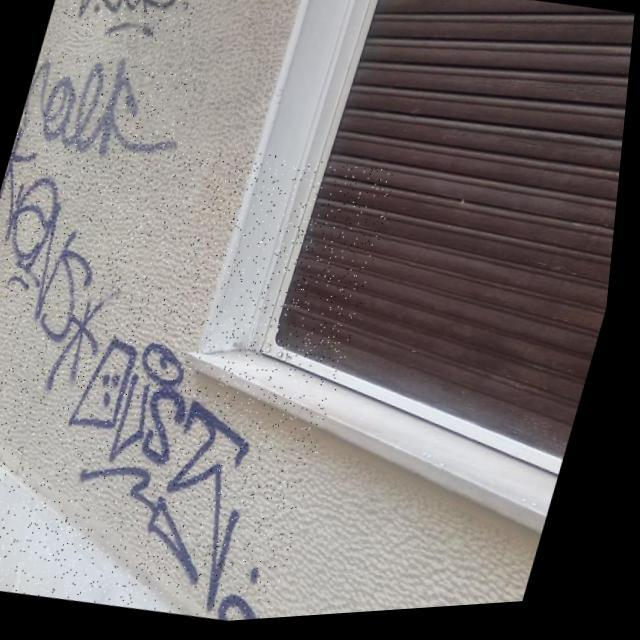-: (0, 102, 409, 640), (14, 42, 205, 178), (57, 0, 206, 56)
